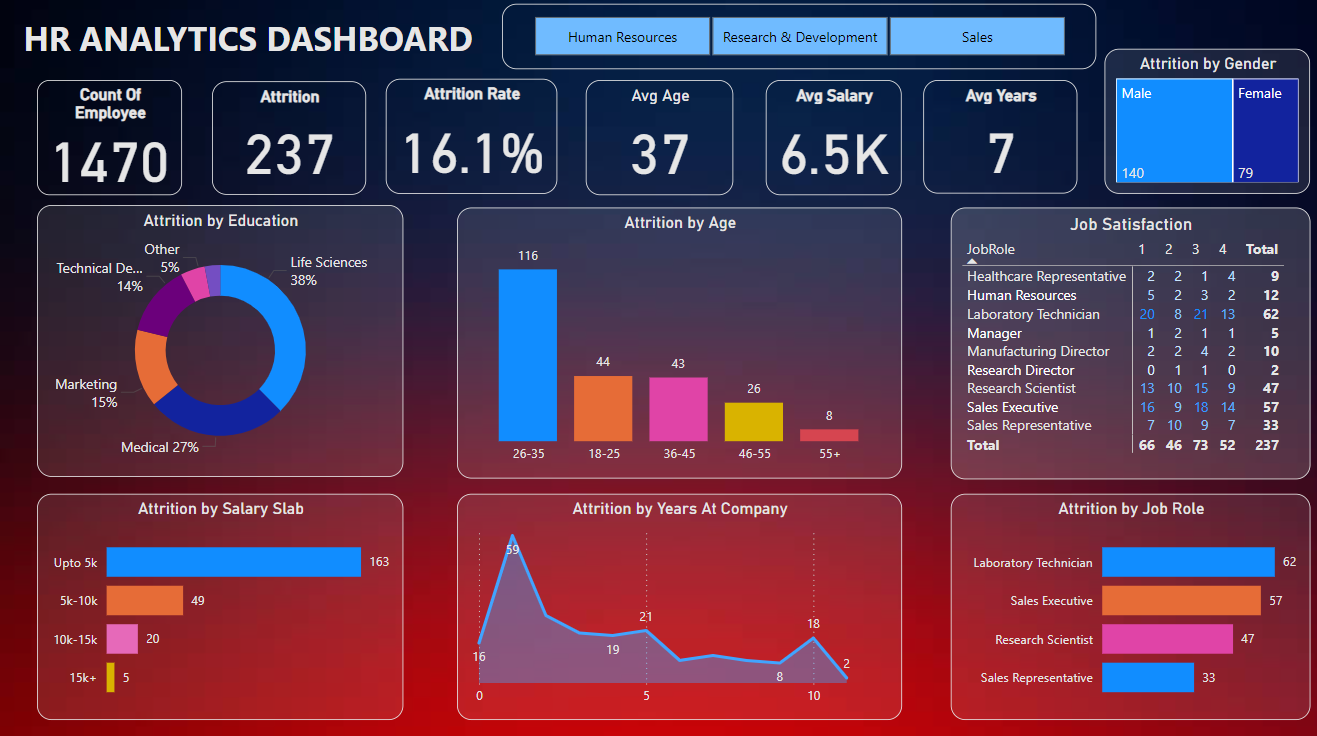

The page's visual inventory and layout, read from the dashboard file:
{"tool":"powerbi","page":{"name":"Page 1","canvas":[1280,720],"ordinal":0},"visuals":[{"type":"card","title":"Count Of Employee","fields":{"Values":["CountNonNull(HR_Analytics (1).EmpID)"]},"box":[39.1,82.1,140.1,111.1],"z":0},{"type":"card","title":"Attrition","fields":{"Values":["Sum(HR_Analytics (1).AttritionCount)"]},"box":[207.1,83.3,149,109.8],"z":1000},{"type":"card","title":"Attrition Rate","fields":{"Values":["HR_Analytics (1).AttritionRate"]},"box":[375,80.8,165.4,111.1],"z":2000},{"type":"card","title":"Avg Age","fields":{"Values":["Avg(HR_Analytics (1).Age)"]},"box":[568.2,82.1,142.7,111.1],"z":3000},{"type":"card","title":"Avg Salary","fields":{"Values":["Avg(HR_Analytics (1).MonthlyIncome)"]},"box":[742.4,82.1,131.3,111.1],"z":4000},{"type":"card","title":"Avg Years","fields":{"Values":["Avg(HR_Analytics (1).YearsAtCompany)"]},"box":[893.9,82.1,149,109.8],"z":5000},{"type":"donutChart","title":"Attrition by Education","fields":{"Y":["Sum(HR_Analytics (1).AttritionCount)"],"Category":["HR_Analytics (1).EducationField"]},"box":[39.1,203.3,353.5,262.6],"z":6000},{"type":"columnChart","title":"Attrition by Age","fields":{"Category":["HR_Analytics (1).AgeGroup"],"Y":["Sum(HR_Analytics (1).AttritionCount)"]},"box":[444.4,204.5,429.3,261.4],"z":7000},{"type":"pivotTable","title":"Job Satisfaction","fields":{"Rows":["HR_Analytics (1).JobRole"],"Columns":["HR_Analytics (1).JobSatisfaction"],"Values":["Sum(HR_Analytics (1).AttritionCount)"]},"box":[920.4,204.5,347.2,262.6],"z":8000},{"type":"barChart","title":"Attrition by Salary Slab","fields":{"Category":["HR_Analytics (1).SalarySlab"],"Y":["Sum(HR_Analytics (1).AttritionCount)"]},"box":[39.1,481,353.5,218.4],"z":9000},{"type":"barChart","title":"Attrition by Job Role","fields":{"Category":["HR_Analytics (1).JobRole"],"Y":["Sum(HR_Analytics (1).AttritionCount)"]},"box":[920.4,481,347.2,218.4],"z":10000},{"type":"areaChart","title":"Attrition by Years At Company","fields":{"Category":["HR_Analytics (1).YearsAtCompany"],"Y":["Sum(HR_Analytics (1).AttritionCount)"]},"box":[444.4,481,429.3,218.4],"z":11000},{"type":"treemap","title":"Attrition by Gender","fields":{"Group":["HR_Analytics (1).Gender"],"Values":["Sum(HR_Analytics (1).AttritionCount)"]},"box":[1069.4,51.8,198.2,140.1],"z":12000},{"type":"slicer","fields":{"Values":["HR_Analytics (1).Department"]},"box":[487.4,8.8,573.2,63.1],"z":13000},{"type":"textbox","box":[20.2,13.9,455.8,58.1],"z":14000}]}

Visuals, with their boxes in screenshot pixels (x1, y1, x2, y2), scaled from the page's 1280x720 canvas onto the 1317x736 screenshot:
"Count Of Employee" card: pyautogui.locateOnScreen(40, 84, 184, 197)
"Attrition" card: pyautogui.locateOnScreen(213, 85, 366, 197)
"Attrition Rate" card: pyautogui.locateOnScreen(386, 83, 556, 196)
"Avg Age" card: pyautogui.locateOnScreen(585, 84, 731, 197)
"Avg Salary" card: pyautogui.locateOnScreen(764, 84, 899, 197)
"Avg Years" card: pyautogui.locateOnScreen(920, 84, 1073, 196)
"Attrition by Education" donutChart: pyautogui.locateOnScreen(40, 208, 404, 476)
"Attrition by Age" columnChart: pyautogui.locateOnScreen(457, 209, 899, 476)
"Job Satisfaction" pivotTable: pyautogui.locateOnScreen(947, 209, 1304, 477)
"Attrition by Salary Slab" barChart: pyautogui.locateOnScreen(40, 492, 404, 715)
"Attrition by Job Role" barChart: pyautogui.locateOnScreen(947, 492, 1304, 715)
"Attrition by Years At Company" areaChart: pyautogui.locateOnScreen(457, 492, 899, 715)
"Attrition by Gender" treemap: pyautogui.locateOnScreen(1100, 53, 1304, 196)
slicer - HR_Analytics (1).Department: pyautogui.locateOnScreen(501, 9, 1091, 73)
textbox: pyautogui.locateOnScreen(21, 14, 490, 74)
